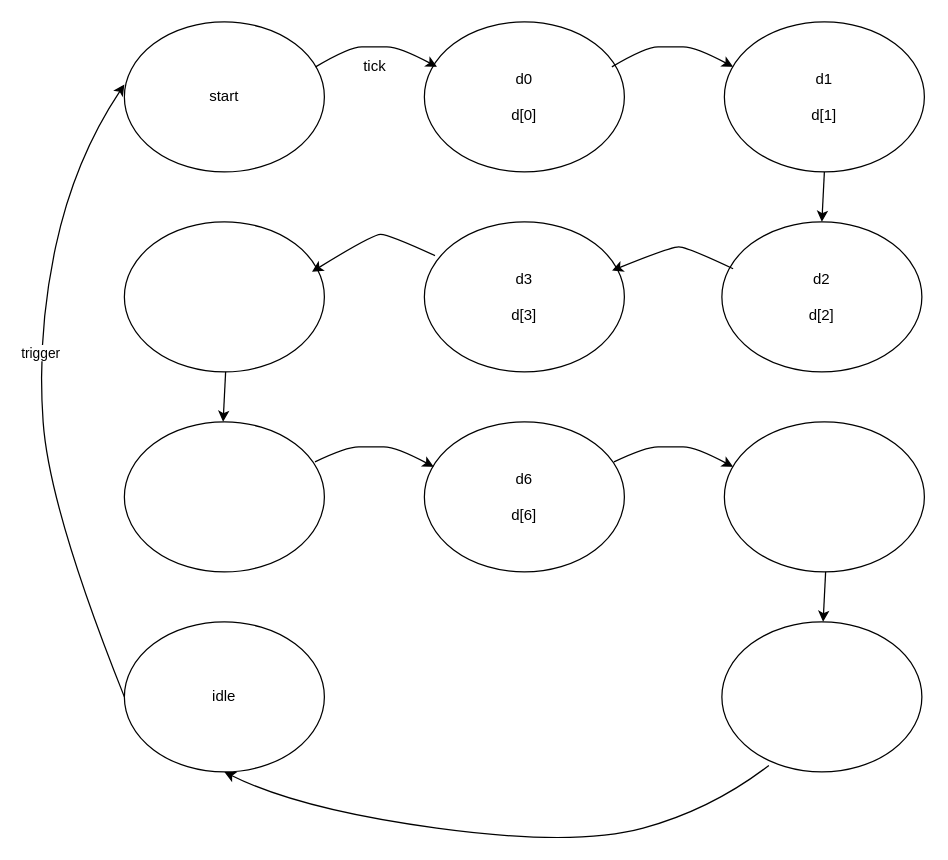
Image size: 948x860. Some labels were removed from this diagram. Here are the shapes that lost their labels. From the top down, the box of each, then its label:
(123, 221, 324, 372): d4 d[4]
(123, 421, 324, 572): d5 d[5]
(723, 421, 924, 572): d7 d[7]
(721, 621, 922, 772): stop
